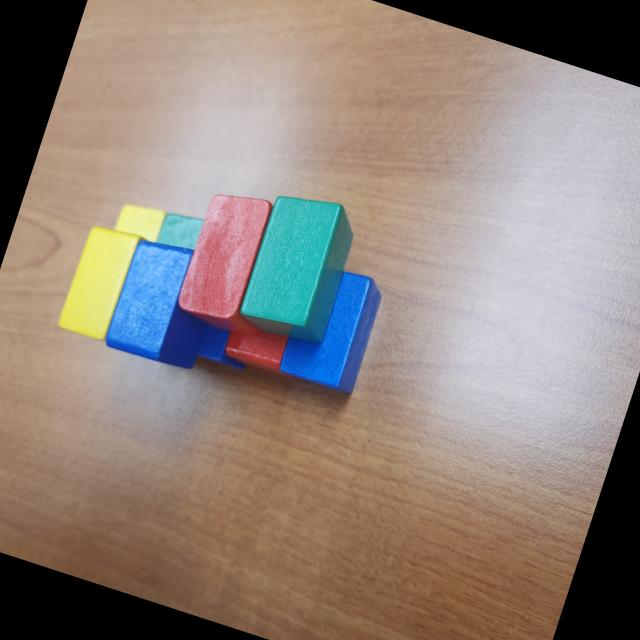blue: (102, 233, 228, 374), (275, 258, 389, 398), (192, 322, 255, 374)
green: (234, 185, 366, 349), (154, 206, 208, 258)
red: (172, 183, 301, 342), (220, 306, 313, 384)
yellow: (55, 220, 140, 344), (112, 194, 170, 247)
